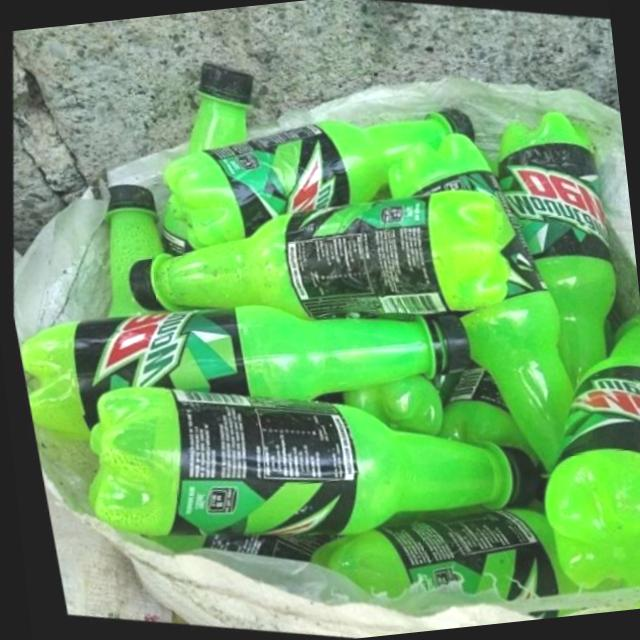chai_nhua: (82, 388, 532, 539), (385, 134, 567, 474), (16, 306, 468, 441), (125, 191, 504, 322), (161, 109, 474, 248), (495, 112, 612, 384), (536, 314, 640, 592), (320, 509, 548, 602), (102, 186, 161, 320), (187, 63, 252, 156), (159, 196, 199, 258)
